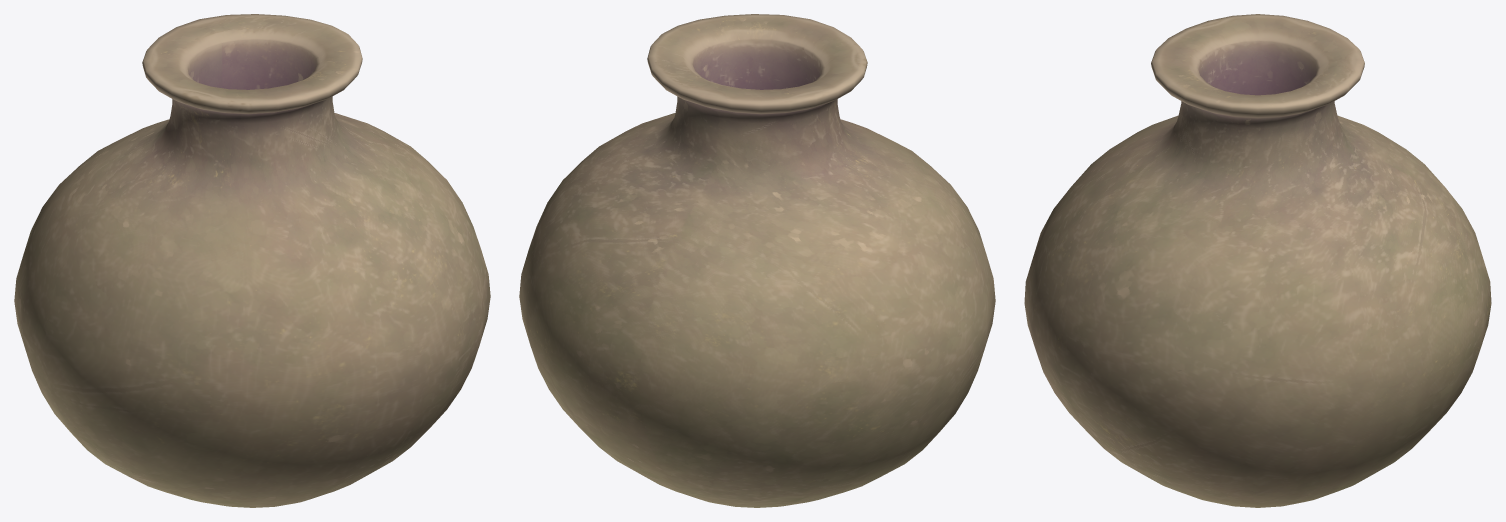
Rendered from Jarron_lo_bueno.fbx.
3 renders of one model, left to right at view 1: azimuth 30°, elevation 25°; view 2: azimuth 150°, elevation 25°; view 3: azimuth 270°, elevation 25°, orthographic.
Visible parts, largest first — view 1: Jarron.001; view 2: Jarron.001; view 3: Jarron.001.
Boxes of the visible parts, x1=… form: Jarron.001: x1=14, y1=14, x2=490, y2=507; Jarron.001: x1=519, y1=14, x2=995, y2=507; Jarron.001: x1=1024, y1=14, x2=1491, y2=507.
Bounding box in the file's own units: 92.72 × 89.59 × 91.39.
